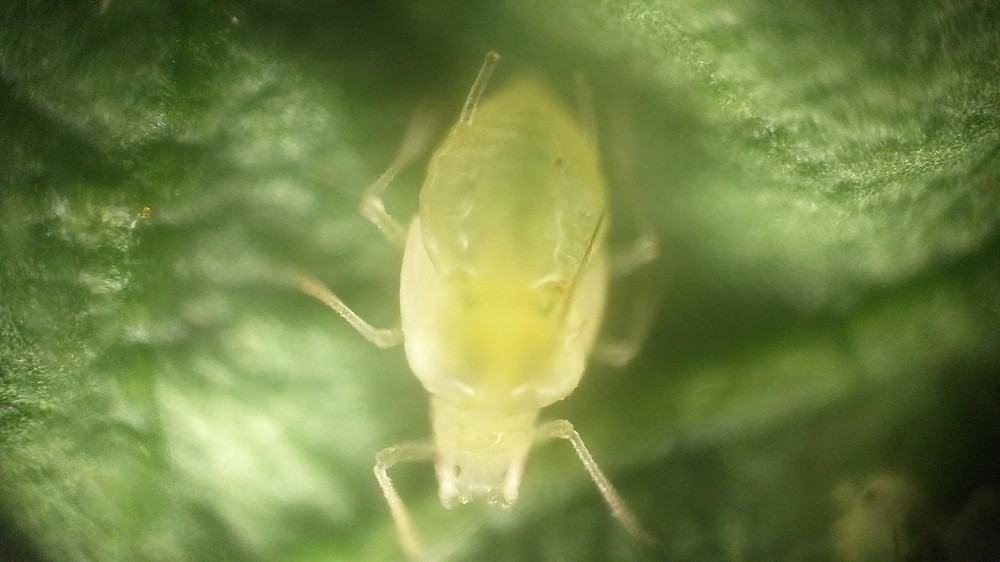Pulgon: (279, 44, 715, 551)
